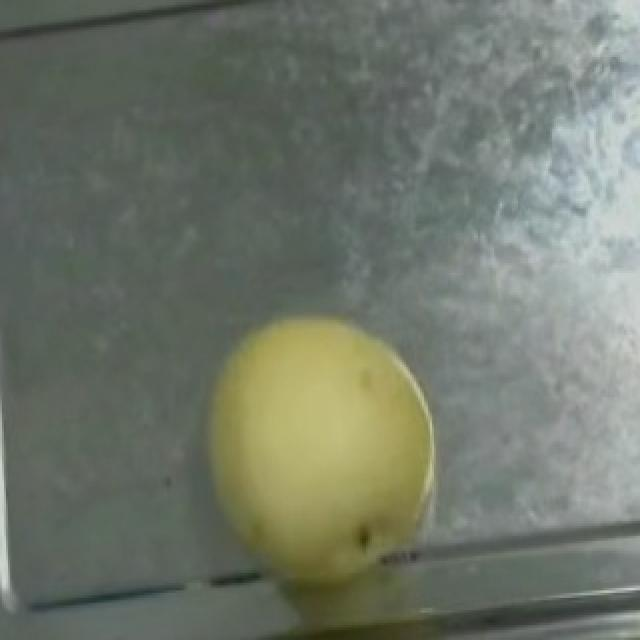Fruit: (176, 298, 454, 578)
